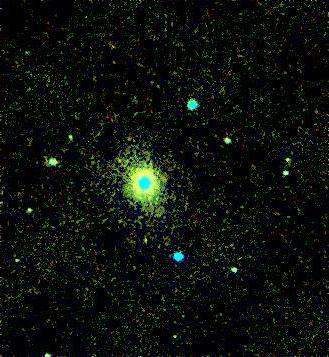star: (131, 224, 161, 254)
